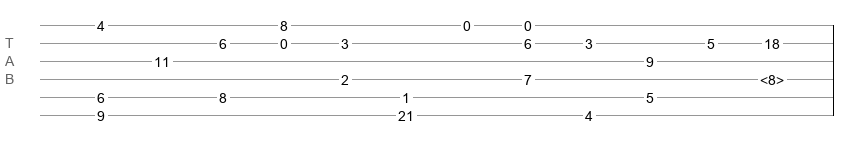0: (280, 36, 288, 46), (463, 18, 471, 28), (524, 18, 532, 28)
1: (402, 90, 410, 100)
11: (154, 54, 170, 64)
18: (764, 36, 780, 46)
2: (341, 72, 349, 82)
21: (398, 108, 414, 118)
3: (341, 36, 349, 46), (585, 36, 593, 46)
4: (97, 18, 105, 28), (585, 108, 593, 118)
5: (646, 90, 654, 100), (707, 36, 715, 46)
6: (97, 90, 105, 100), (219, 36, 227, 46), (524, 36, 532, 46)
7: (524, 72, 532, 82)
8: (219, 90, 227, 100), (280, 18, 288, 28)
9: (97, 108, 105, 118), (646, 54, 654, 64)
harmonic: (760, 72, 784, 82)
